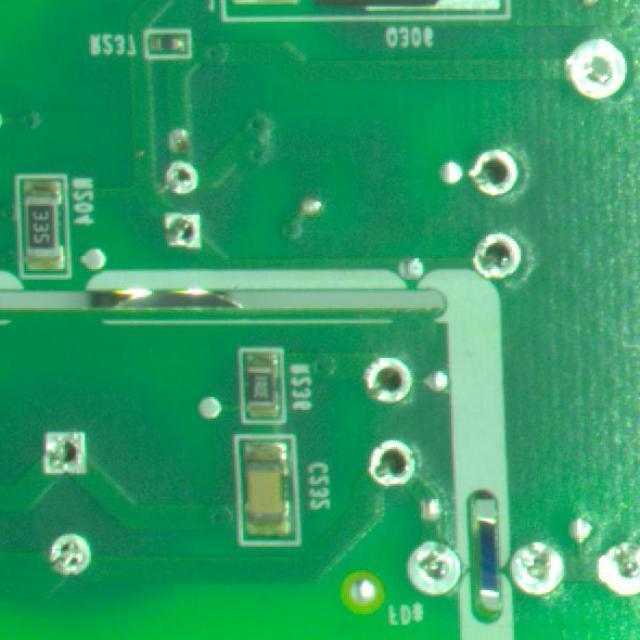Insufficient solder: (555, 29, 636, 108), (406, 530, 470, 599), (38, 416, 100, 482), (468, 145, 532, 203), (356, 354, 416, 414), (510, 537, 568, 599), (473, 228, 527, 290), (366, 438, 424, 492), (595, 534, 640, 598), (44, 536, 102, 582), (162, 155, 208, 200), (163, 210, 203, 254)
